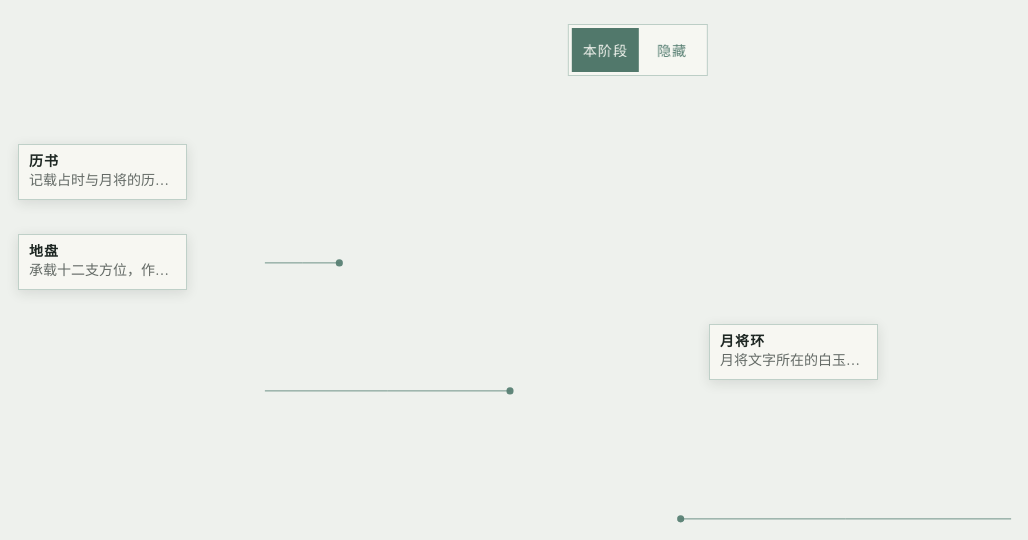
Test case: ArtifactAnnotationLayer › limits compact layouts to current-stage or hidden annotations
Click the button "隐藏" at (672, 50), box [640,28,704,72]
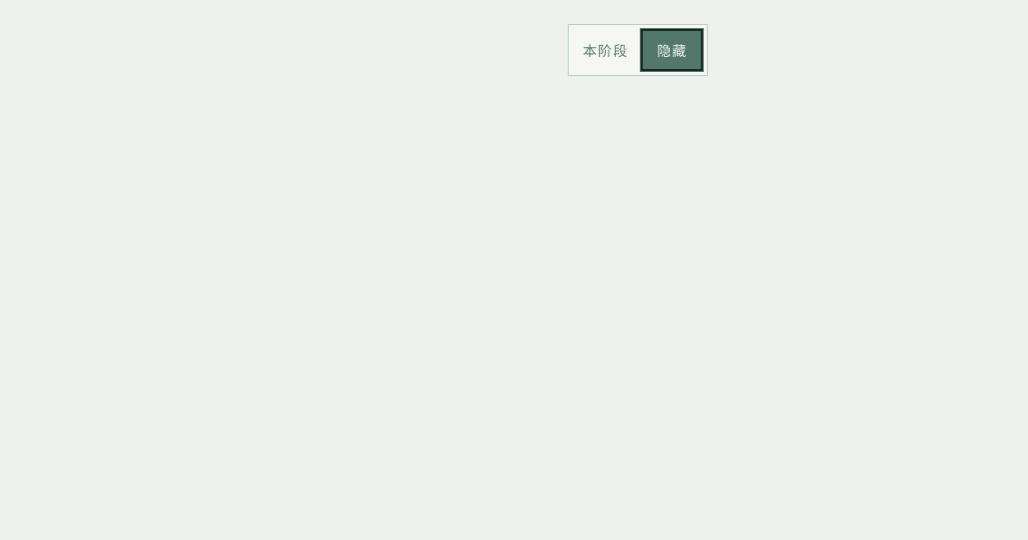
Now no buttons with class "artifact-annotations__card" are shown
